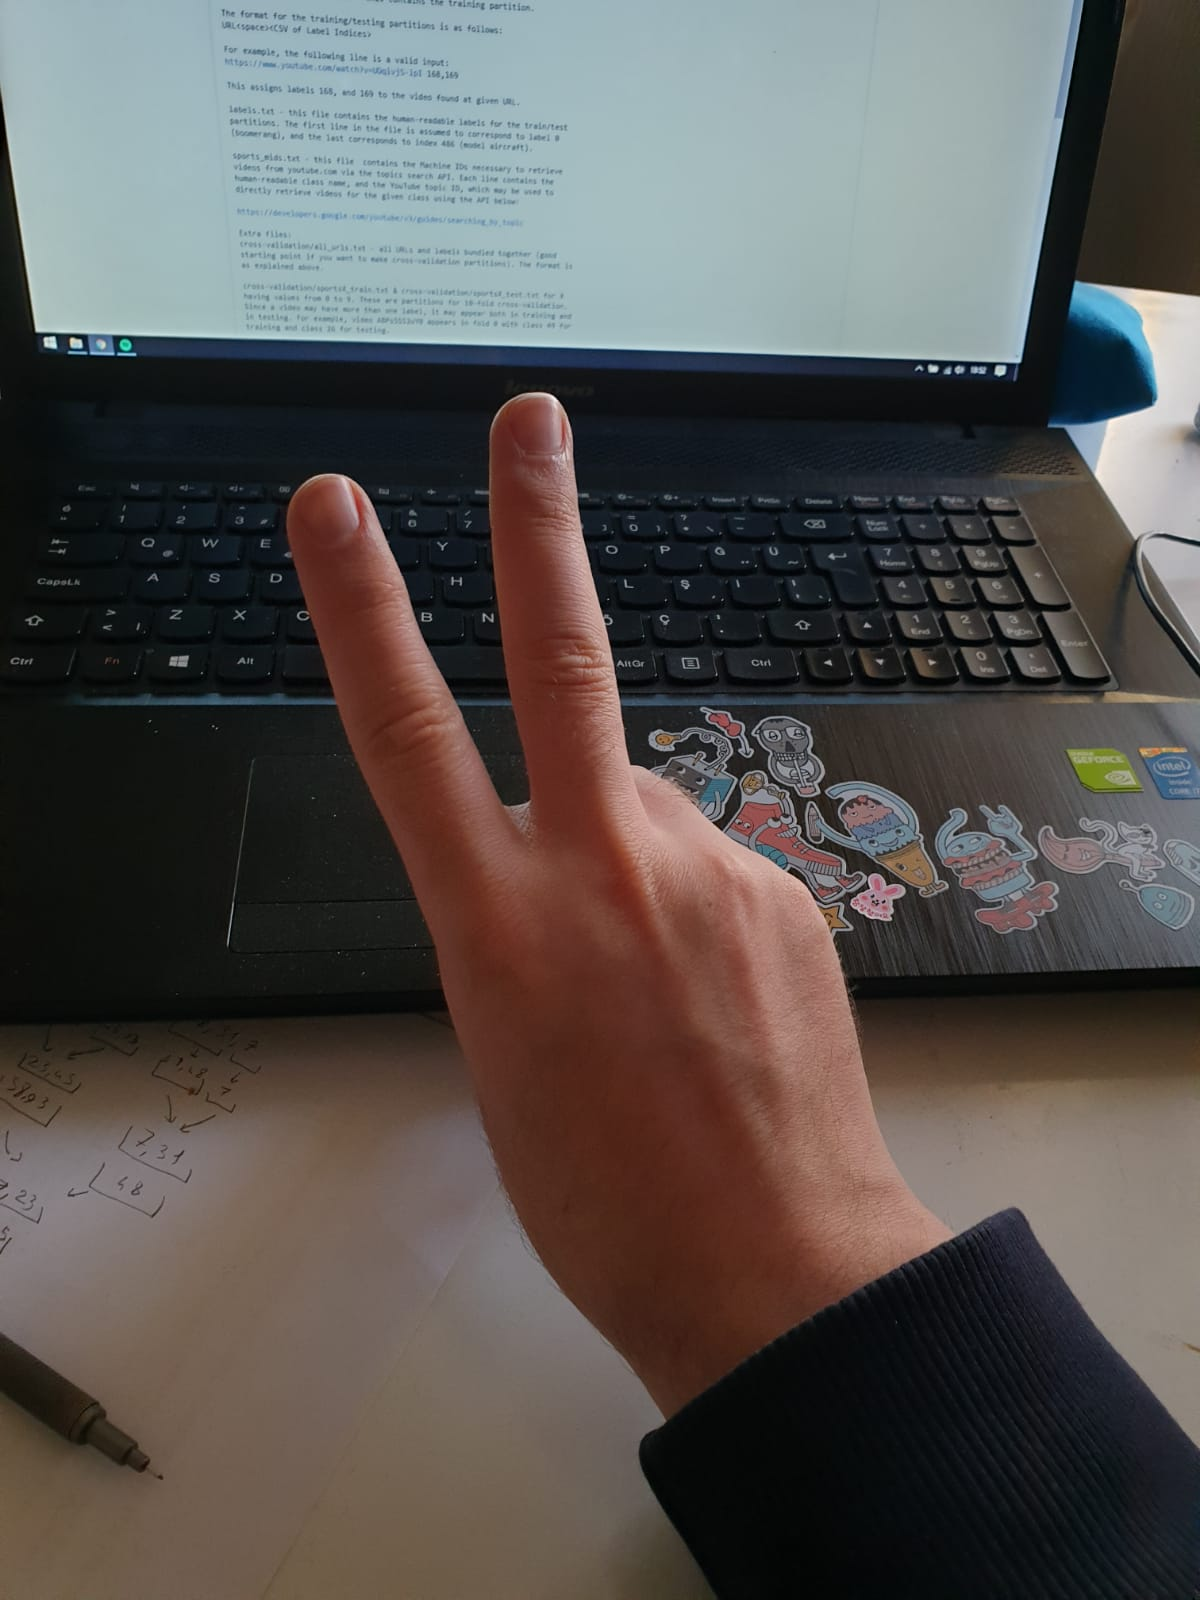Peace: (275, 387, 966, 1427)
